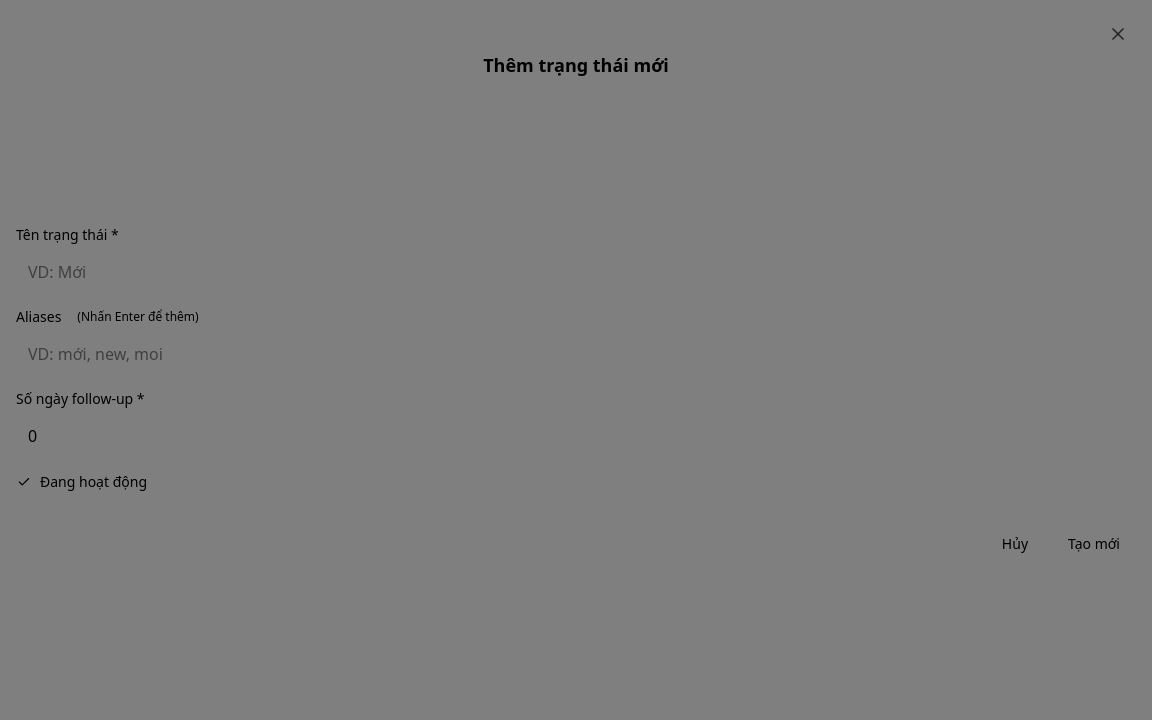
Test case: FollowUpStatusFormModal › Validation › shows error for empty status name
The width and height of the screenshot is (1152, 720).
Click the button "Tạo mới" at (1094, 544), box [1052,522,1136,566]
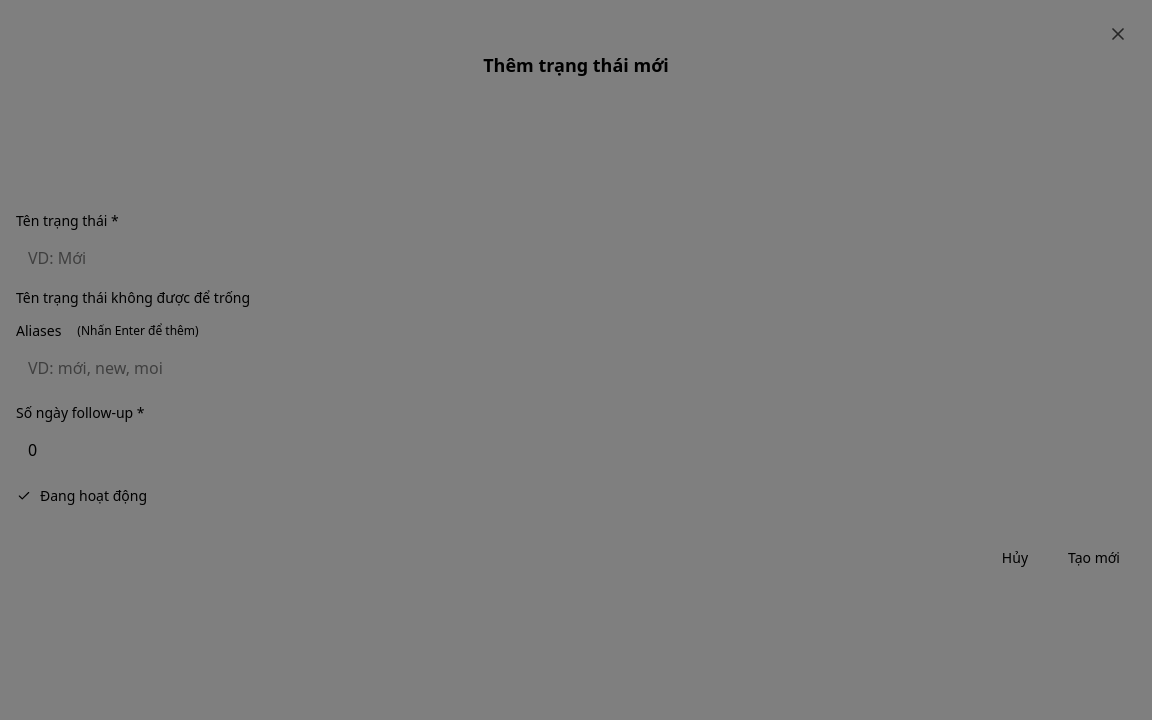
expect the text "Tên trạng thái không được để trống" is shown: met, box [16,288,250,307]
